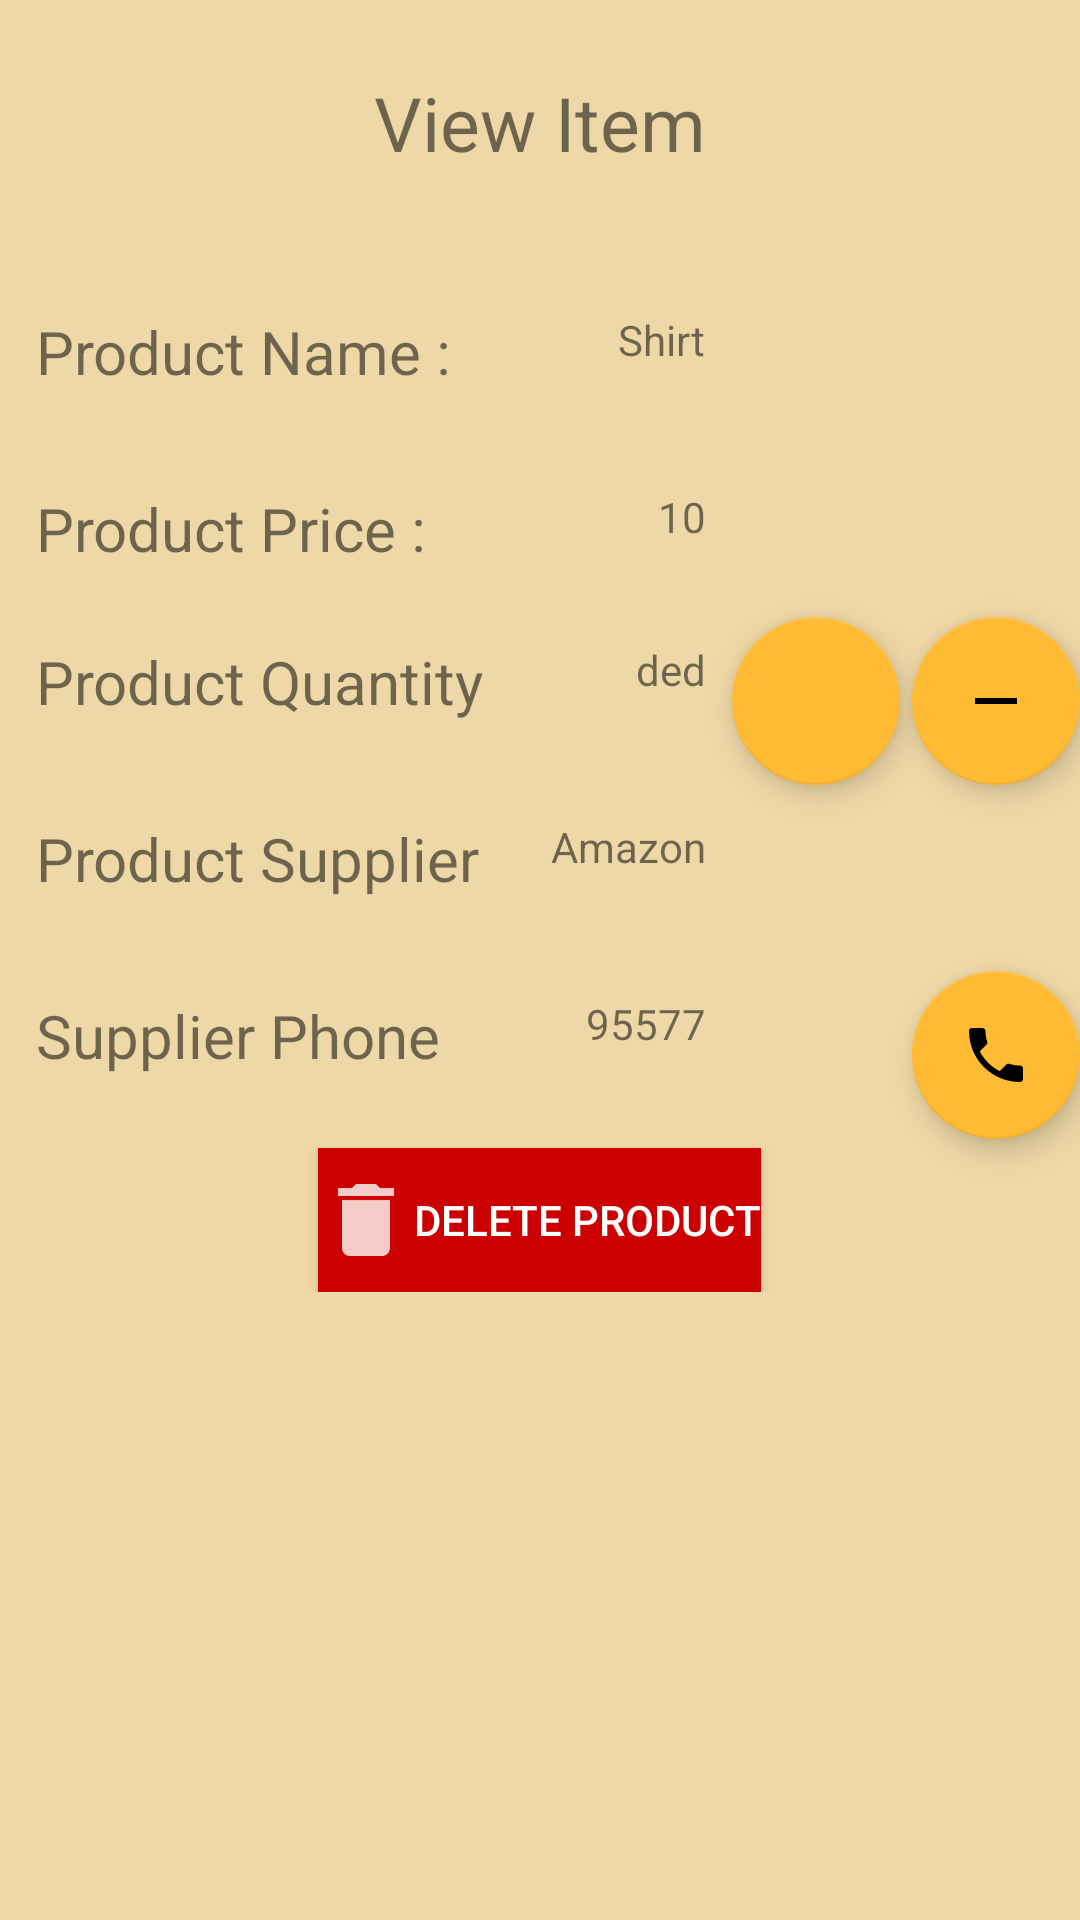

Icon bounding boxes for this 1080×1920 phone screenshot, format (x1, y1, x2, y2):
call: (912, 971, 1080, 1139)
remove: (912, 617, 1080, 785)
